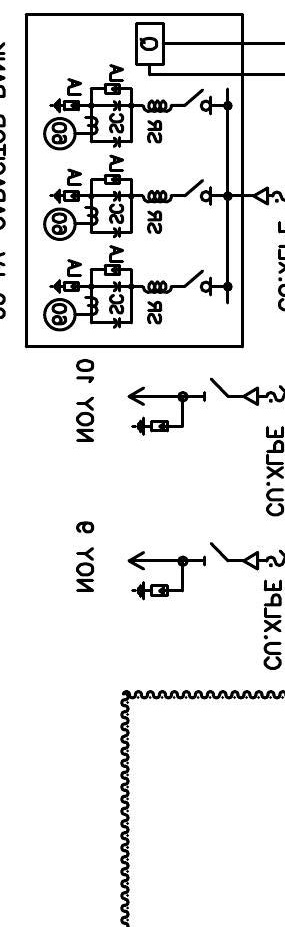22_cap_bank: (24, 12, 245, 349)
22_ds_la_out: (126, 376, 229, 436), (126, 541, 228, 601)
Q: (134, 21, 166, 67)
terminator_single: (252, 186, 270, 207), (242, 386, 260, 406), (242, 551, 259, 571)
